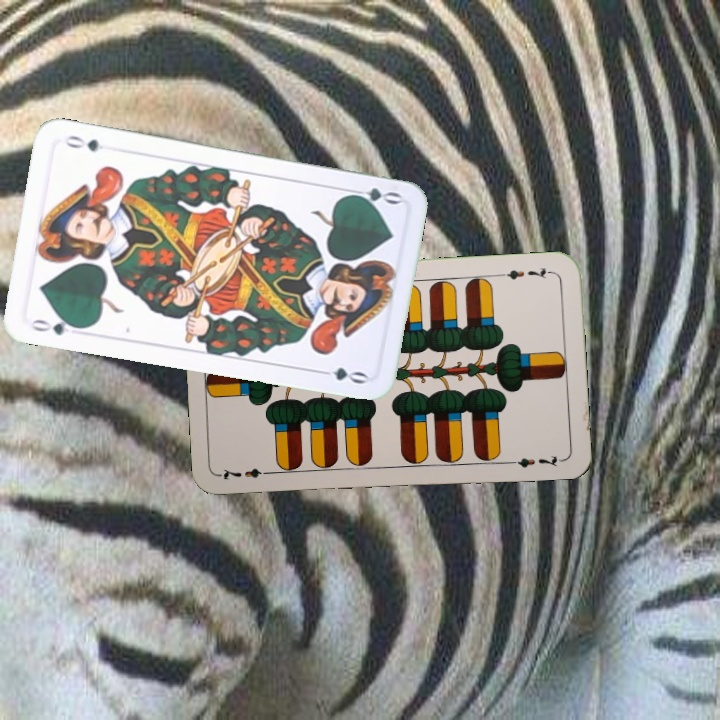E7: (496, 263, 555, 283), (217, 464, 276, 483)
GO: (27, 313, 86, 338), (343, 184, 403, 208)
